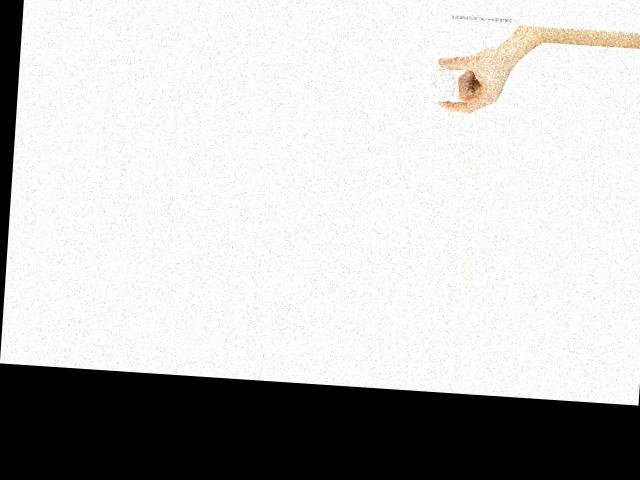egg: (430, 66, 457, 102)
